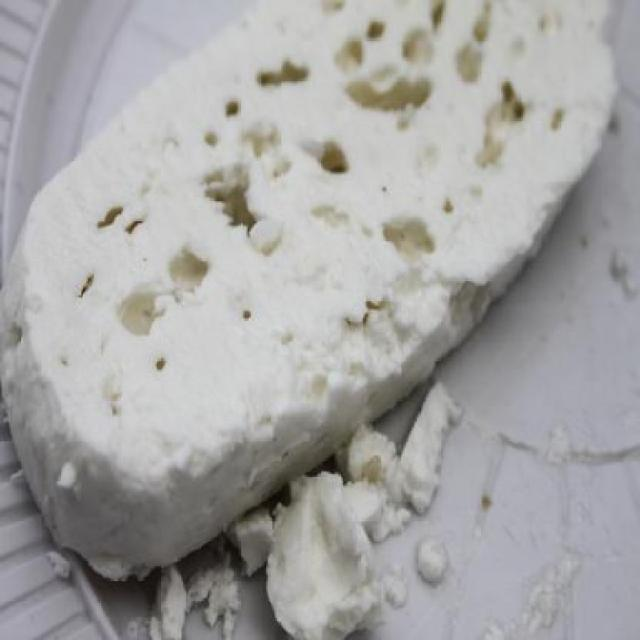Cheese: (0, 0, 618, 638)
